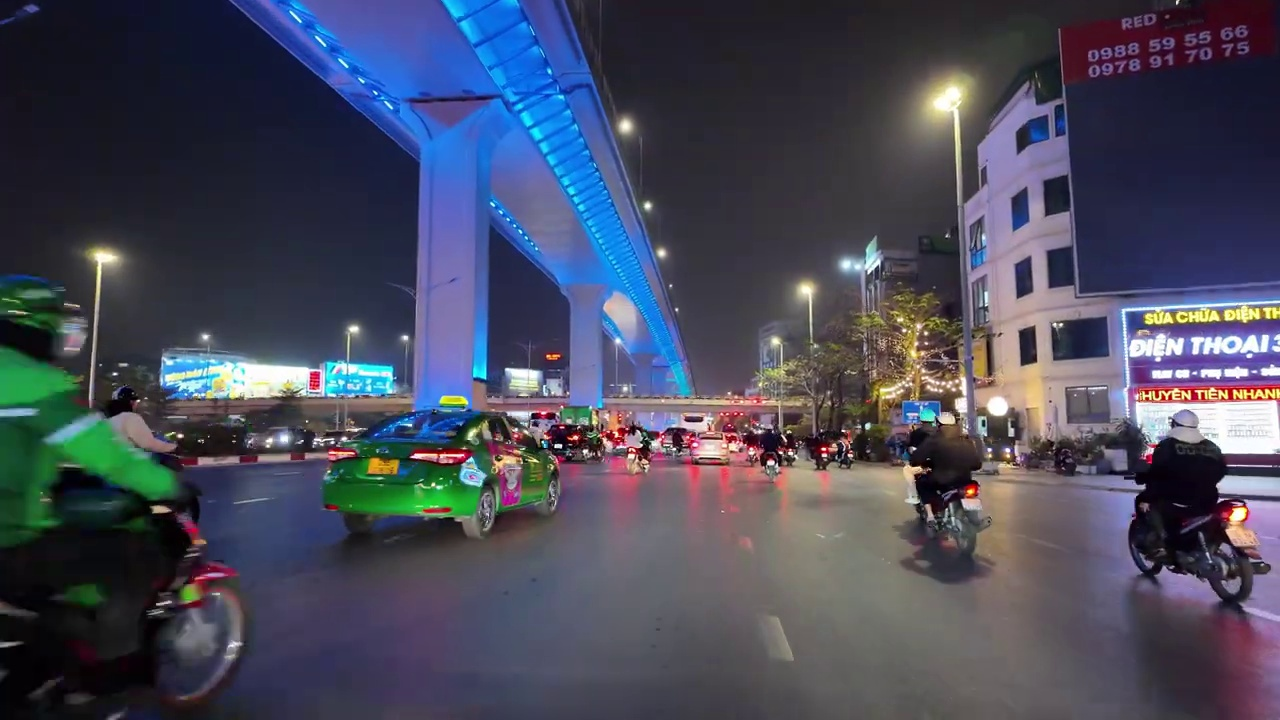acesa: (926, 81, 965, 121), (606, 296, 637, 328), (88, 245, 122, 273), (792, 278, 818, 305), (613, 115, 639, 139), (343, 322, 364, 343), (654, 243, 673, 265)
